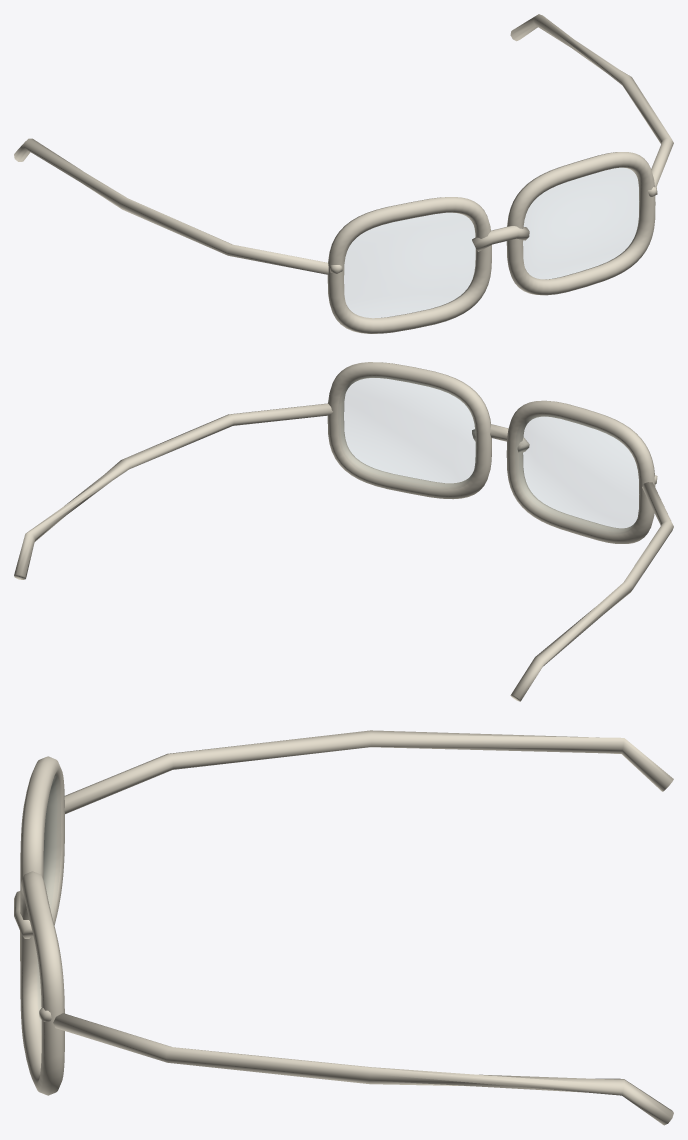
File: 04-clear-day.glb
3 renders of one model, top to bottom at view 1: azimuth 30°, elevation 25°; view 2: azimuth 150°, elevation 25°; view 3: azimuth 270°, elevation 25°, orthographic. The views are drawn at different scales.
Parts seen in each view (by area): view 1: Glasses04_Lens-12, Glasses04_Lens14, Glasses04_Rim-11, Glasses04_Rim13, Glasses04_Temple-16, Glasses04_Temple18, Glasses04_Bridge5; view 2: Glasses04_Lens14, Glasses04_Lens-12, Glasses04_Rim13, Glasses04_Rim-11, Glasses04_Temple18, Glasses04_Temple-16; view 3: Glasses04_Temple-16, Glasses04_Temple18, Glasses04_Rim13, Glasses04_Rim-11, Glasses04_Lens-12.
Boxes of the visible parts, x1,y1,x2,y2 form: Glasses04_Lens-12: [344, 213, 475, 317]; Glasses04_Lens14: [523, 168, 638, 278]; Glasses04_Rim-11: [327, 197, 491, 333]; Glasses04_Rim13: [506, 152, 655, 295]; Glasses04_Temple-16: [14, 138, 328, 274]; Glasses04_Temple18: [510, 14, 673, 186]; Glasses04_Bridge5: [472, 226, 529, 251]; Glasses04_Lens14: [341, 378, 475, 486]; Glasses04_Lens-12: [519, 416, 638, 531]; Glasses04_Rim13: [327, 362, 491, 499]; Glasses04_Rim-11: [506, 400, 655, 543]; Glasses04_Temple18: [14, 403, 332, 579]; Glasses04_Temple-16: [510, 482, 673, 701]; Glasses04_Temple-16: [64, 730, 673, 813]; Glasses04_Temple18: [53, 1013, 673, 1125]; Glasses04_Rim13: [20, 871, 64, 1095]; Glasses04_Rim-11: [20, 756, 64, 925]; Glasses04_Lens-12: [44, 780, 56, 907].
Bounding box in the file's own units: 0.6374 × 0.148 × 0.5101.
